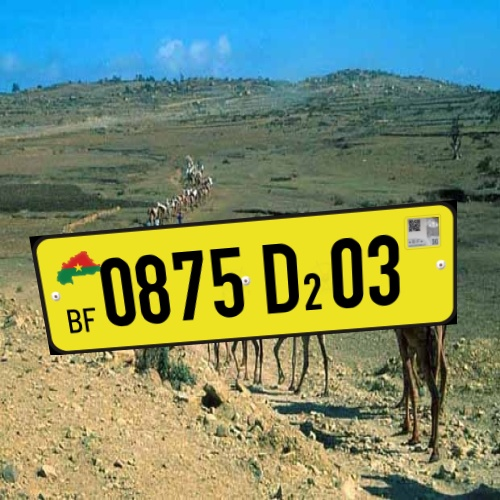plate: (24, 195, 466, 372)
